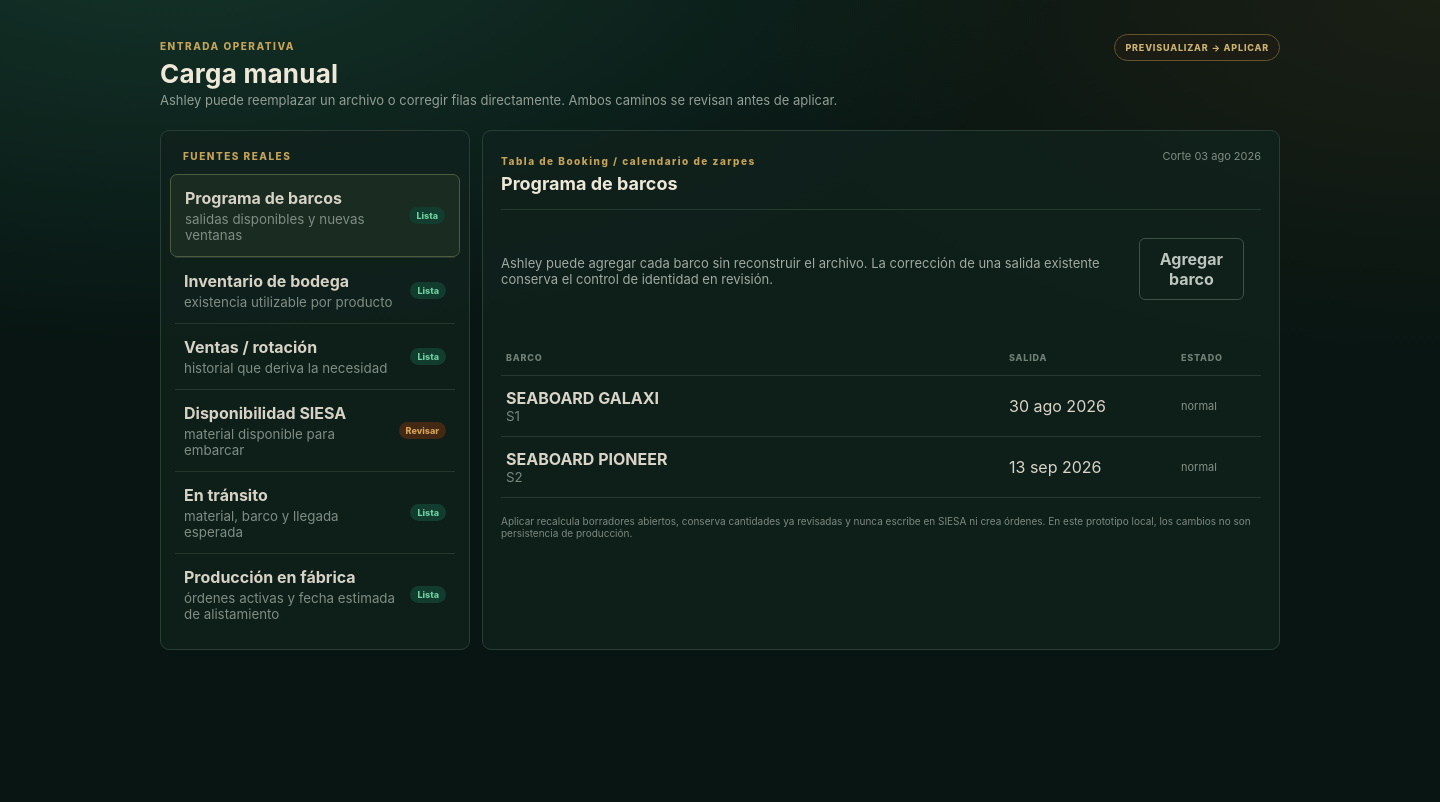
Test: Ashley manual intake workspace › shows PLAN_DE_PRODUCCION rows and stages direct production changes through preview
Click the button "Producción en fábrica".
click(315, 594)  # box [175,553,455,635]
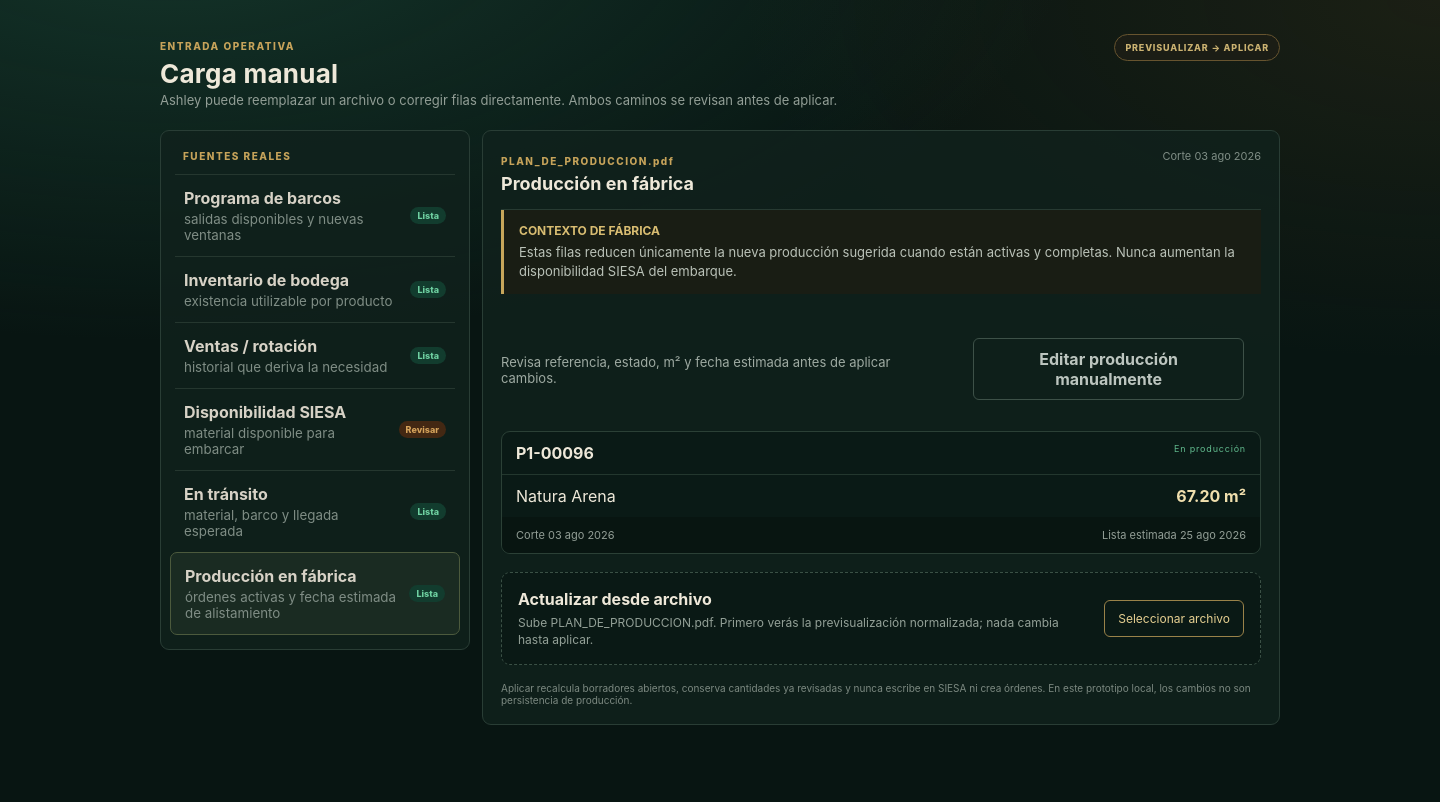
Result: the text "P1-00096" is shown at [516,443,594,463]
Result: the text "En producción" is shown at [1174,443,1246,454]
Result: the text "67.20 m²" is shown at [1176,486,1246,506]
Click the button "Editar producción manualmente".
click(1109, 369)  # box [973,338,1244,400]
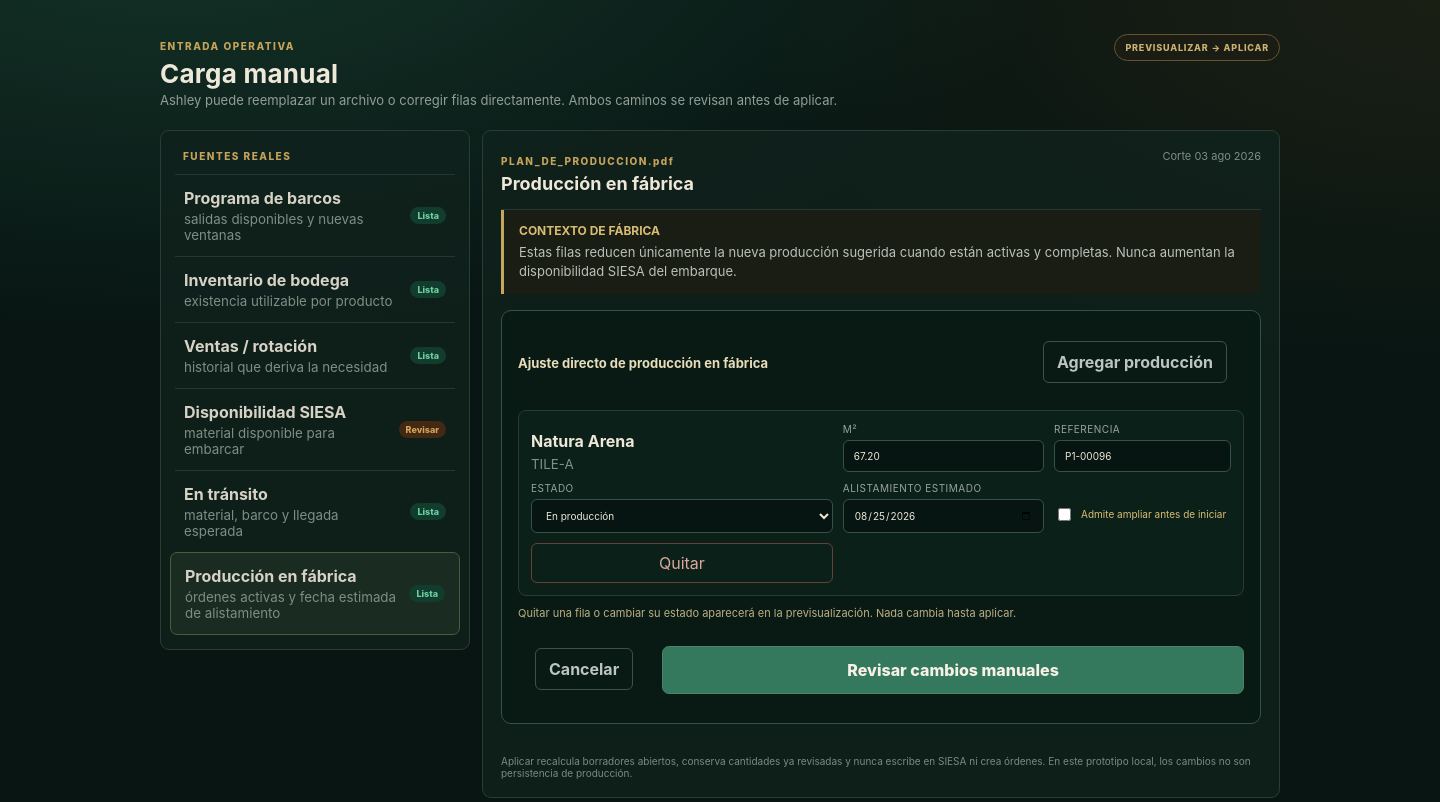
Result: the field named "Natura Arena referencia de producción" is shown at [1054,440,1231,472]
Result: the dropdown named "Natura Arena estado de producción" is shown at [531,499,833,533]
Result: the date field named "Natura Arena fecha estimada de alistamiento" is shown at [843,499,1044,533]
Replace the text in the number field named "Natura Arena m² en producción" with "134.40" at (943, 456), box [843,440,1044,472]
Click the button "Revisar cambios manuales".
click(953, 670)  # box [662,646,1244,694]
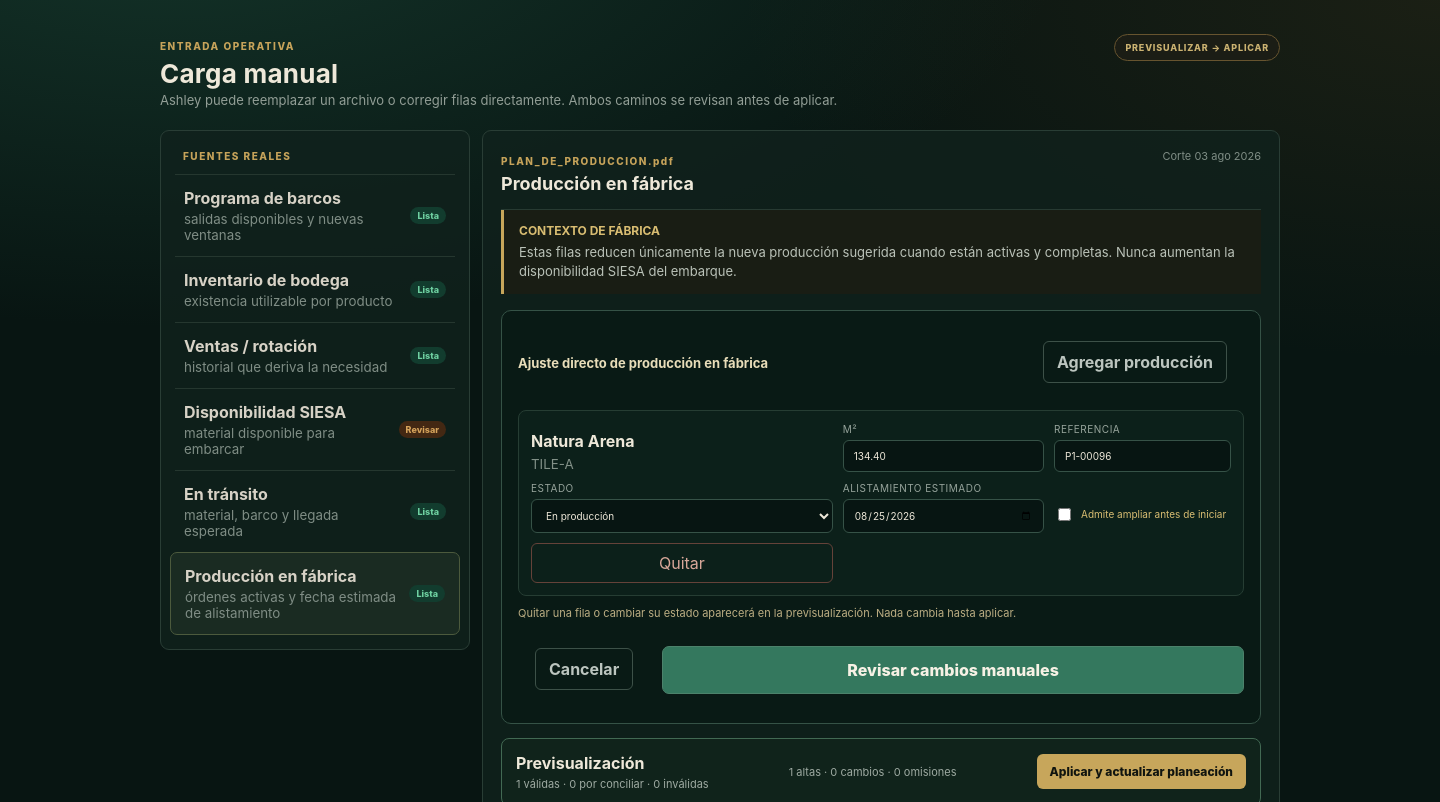
Result: the text "Previsualización" is shown at [516,753,644,773]
Click the button "Producción en fábrica".
click(315, 594)  # box [170,552,460,635]
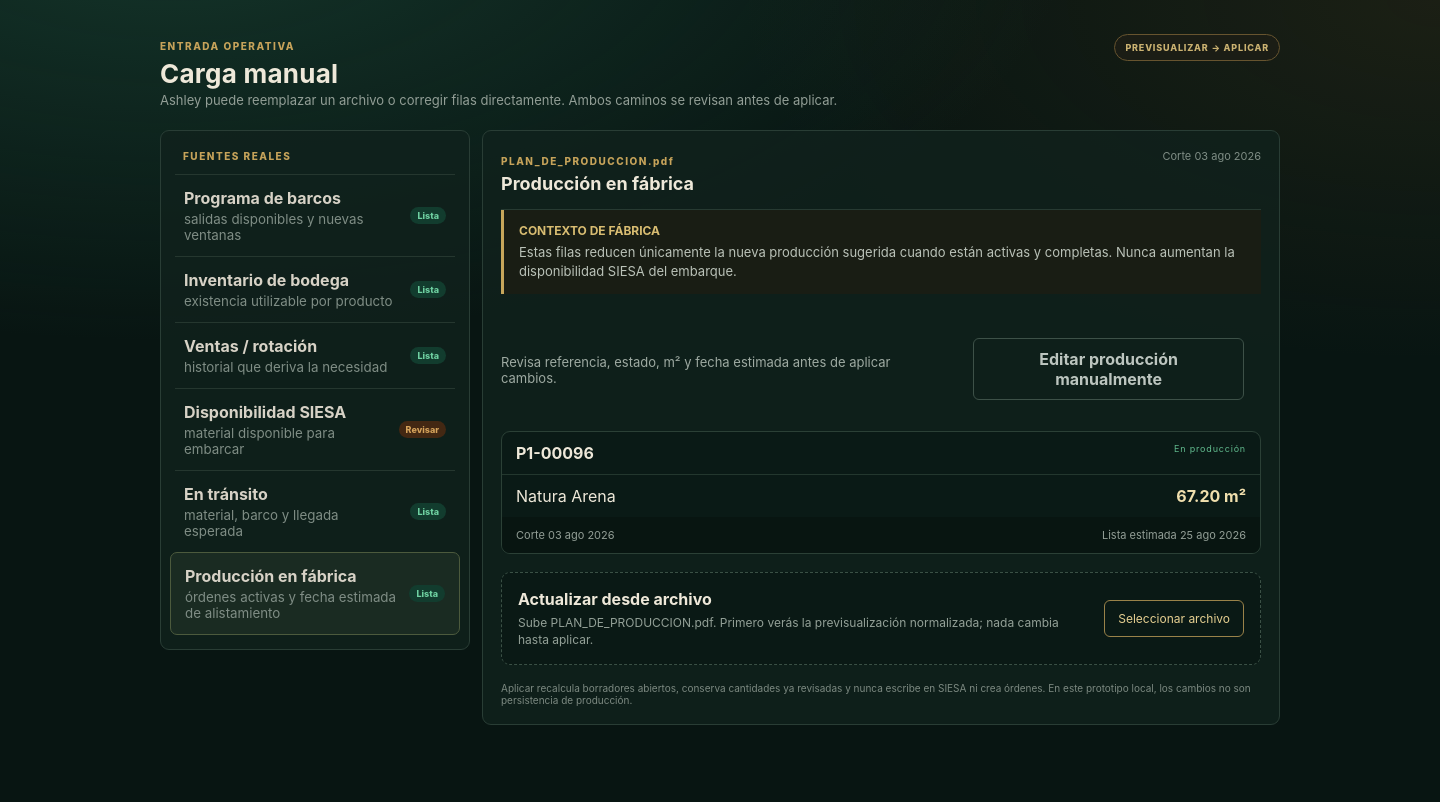
Click the button "Editar producción manualmente".
click(1109, 369)  # box [973,338,1244,400]
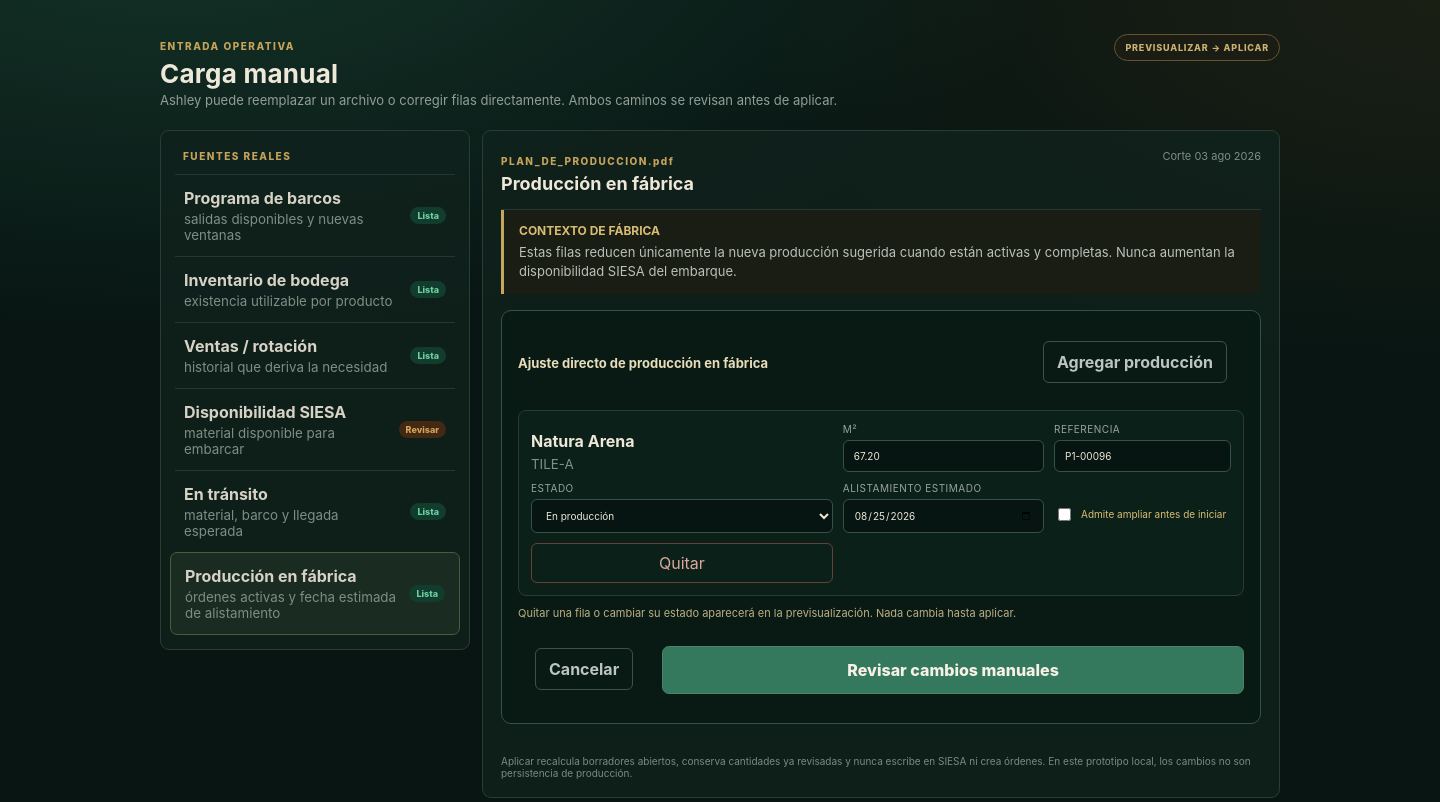
Click the button "Agregar producción".
click(1135, 362)  # box [1043,341,1227,383]
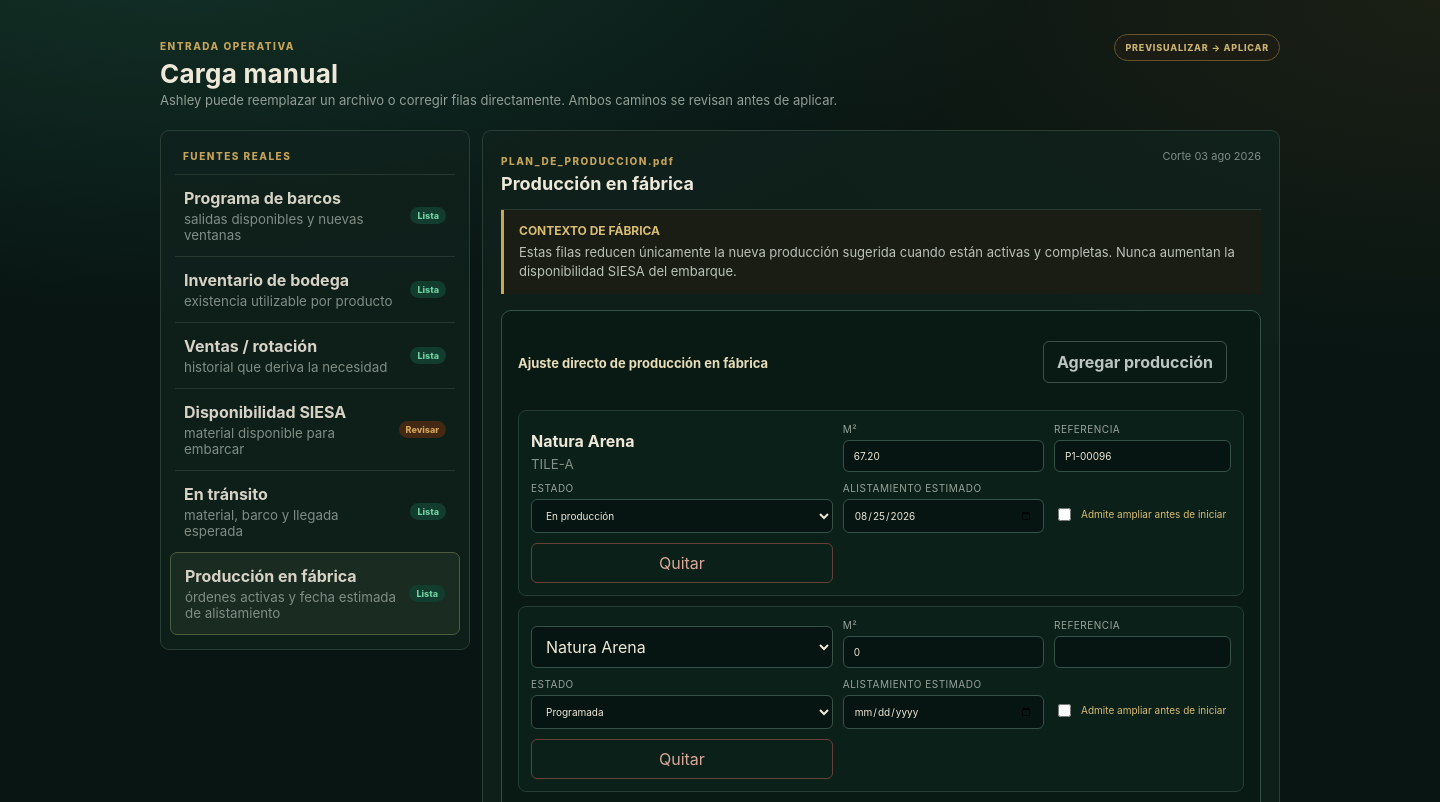
Result: the dropdown named "Producto de nueva producción" is shown at [531,626,833,668]
Result: the field named "Referencia de nueva producción" is shown at [1054,636,1231,668]
Result: the dropdown named "Estado de nueva producción" is shown at [531,695,833,729]
